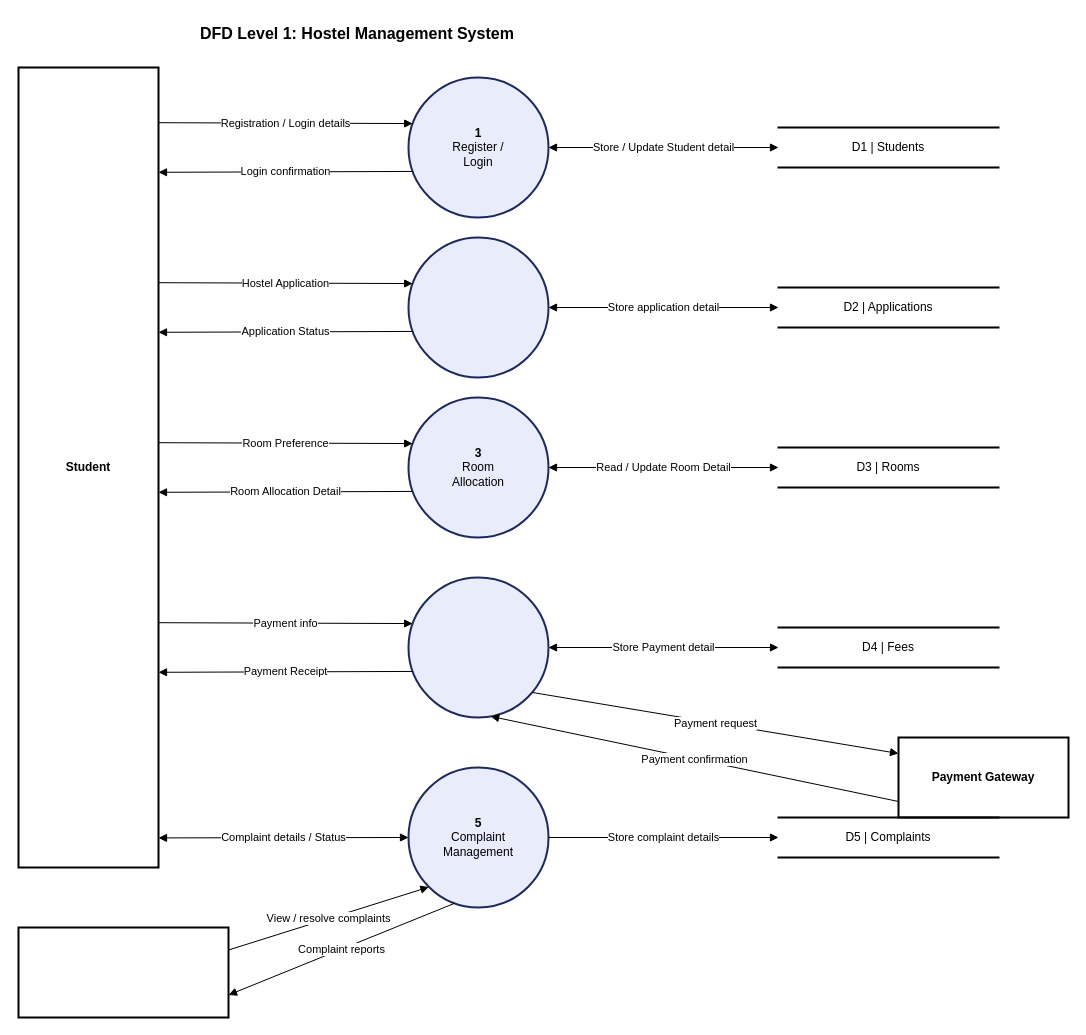
Some shapes in this 1086 by 1035 pixel diagram are drawn without their labels. The centre of each missing label's shape, as x and y in pixels:
"2 Apply for Hostel" goes at point (478, 307).
"4 Fee Management" goes at point (478, 647).
"Hostel Administrator" goes at point (123, 972).
